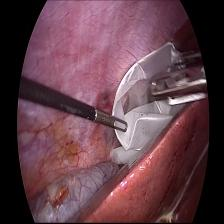Grasper: (152, 62, 206, 106), (91, 110, 128, 134), (173, 49, 204, 67)
Specimen Bag: (111, 39, 186, 161)
